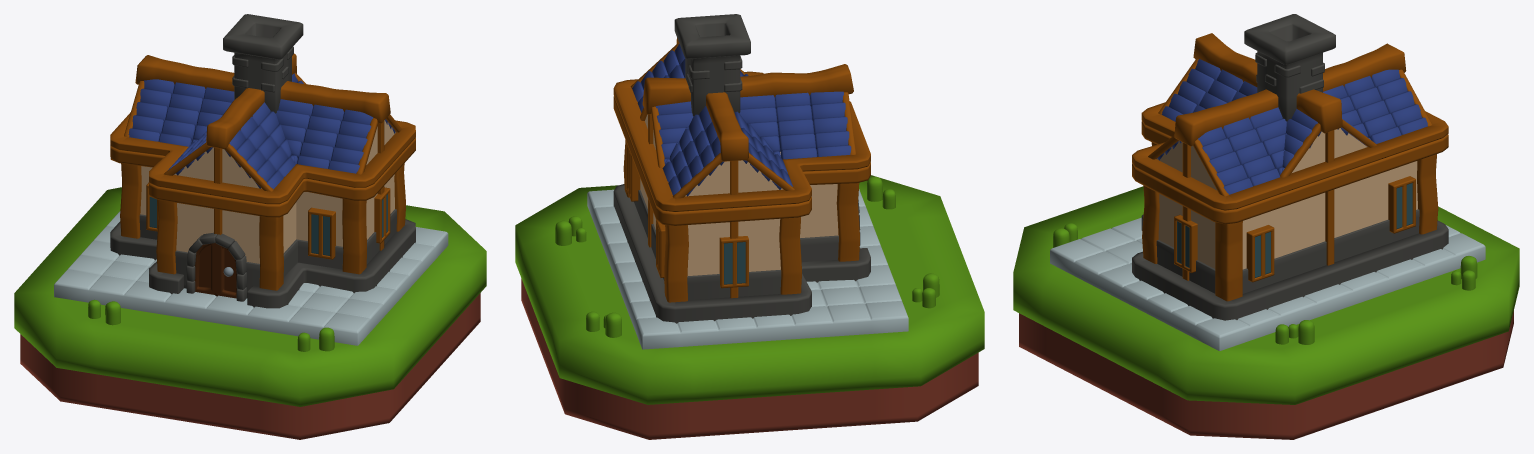
The model's file is Fantasy House 07.glb.
3 views of the same model, side by side, from view 1: azimuth 30°, elevation 25°; view 2: azimuth 150°, elevation 25°; view 3: azimuth 270°, elevation 25° (orthographic). The views are drawn at different scales.
Parts seen in each view (by area): view 1: Medieval House 7.013, Medieval House 7, Medieval House 7.012, Medieval House 7.003, Medieval House 7.014, Medieval House 7.006, Medieval House 7.007, Medieval House 7.002, Medieval House 7.005, Medieval House 7.009, Medieval House 7.004, Medieval House 7.010 (+7 smaller); view 2: Medieval House 7.013, Medieval House 7.012, Medieval House 7, Medieval House 7.003, Medieval House 7.005, Medieval House 7.014, Medieval House 7.007, Medieval House 7.002, Medieval House 7.009, Medieval House 7.006, Medieval House 7.004, Medieval House 7.010 (+5 smaller); view 3: Medieval House 7.013, Medieval House 7.012, Medieval House 7, Medieval House 7.003, Medieval House 7.014, Medieval House 7.005, Medieval House 7.002, Medieval House 7.007, Medieval House 7.009, Medieval House 7.004, Medieval House 7.006, Medieval House 7.010 (+5 smaller).
Boxes of the visible parts, x1,y1,x2,y2 form: Medieval House 7.013: [14, 187, 486, 406]; Medieval House 7: [54, 211, 448, 345]; Medieval House 7.012: [20, 293, 480, 439]; Medieval House 7.003: [128, 73, 395, 189]; Medieval House 7.014: [140, 120, 395, 263]; Medieval House 7.006: [120, 163, 405, 290]; Medieval House 7.007: [110, 112, 415, 204]; Medieval House 7.002: [135, 53, 390, 149]; Medieval House 7.005: [110, 219, 415, 308]; Medieval House 7.009: [223, 14, 303, 113]; Medieval House 7.004: [110, 138, 415, 217]; Medieval House 7.010: [139, 209, 396, 297]; Medieval House 7.013: [515, 175, 984, 404]; Medieval House 7.012: [521, 278, 978, 439]; Medieval House 7: [587, 189, 908, 349]; Medieval House 7.003: [632, 44, 851, 196]; Medieval House 7.005: [613, 184, 870, 323]; Medieval House 7.014: [640, 114, 838, 276]; Medieval House 7.007: [613, 71, 870, 211]; Medieval House 7.002: [642, 38, 853, 161]; Medieval House 7.009: [674, 14, 750, 116]; Medieval House 7.006: [623, 140, 859, 302]; Medieval House 7.004: [613, 96, 870, 225]; Medieval House 7.010: [634, 190, 838, 300]; Medieval House 7.013: [1013, 186, 1519, 404]; Medieval House 7.012: [1019, 311, 1513, 439]; Medieval House 7: [1050, 217, 1485, 350]; Medieval House 7.003: [1156, 59, 1427, 194]; Medieval House 7.014: [1157, 128, 1417, 269]; Medieval House 7.005: [1132, 214, 1448, 320]; Medieval House 7.002: [1174, 33, 1406, 146]; Medieval House 7.007: [1132, 102, 1448, 210]; Medieval House 7.009: [1244, 14, 1335, 121]; Medieval House 7.004: [1132, 121, 1448, 224]; Medieval House 7.006: [1142, 142, 1438, 301]; Medieval House 7.010: [1156, 209, 1419, 293].
Size of the model in its own units: 8.94 by 6.15 by 8.94.
